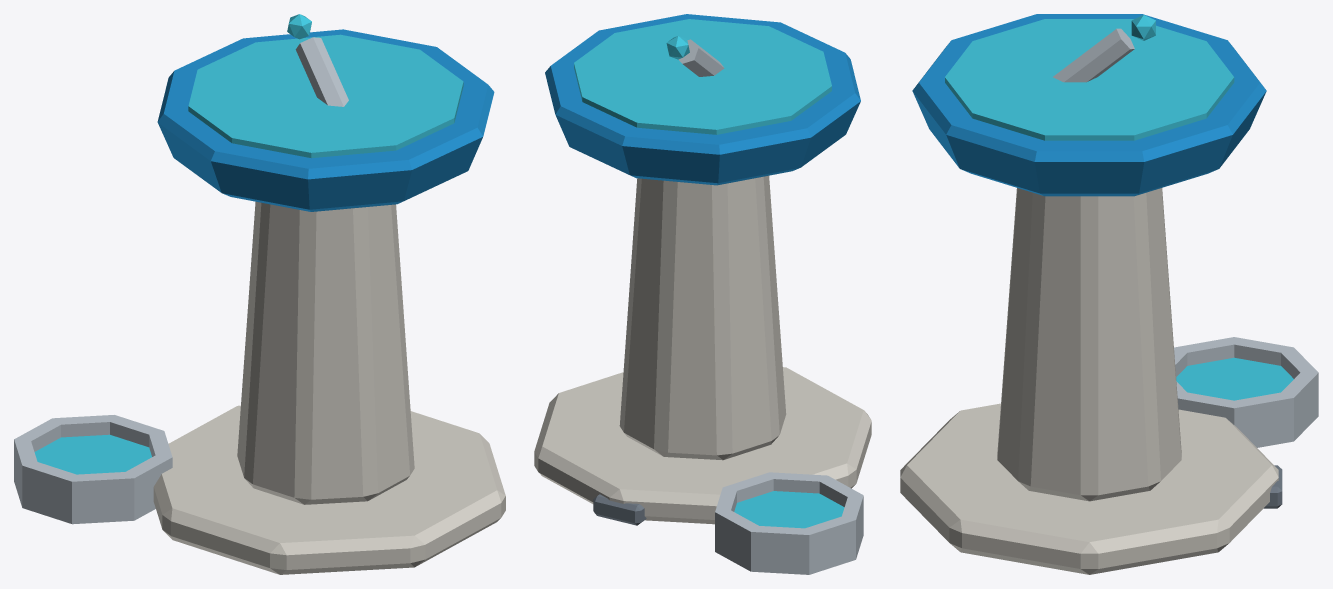
File: bebedouro.glb
3 renders of one model, left to right at view 1: azimuth 30°, elevation 25°; view 2: azimuth 150°, elevation 25°; view 3: azimuth 270°, elevation 25°, orthographic. The views are drawn at different scales.
Parts seen in each view (by area): view 1: corpo; view 2: corpo; view 3: corpo.
Boxes of the visible parts, box(x1,y1,x2,y2) form: corpo: box(14, 14, 505, 574); corpo: box(534, 14, 871, 574); corpo: box(900, 14, 1318, 574).
Bounding box in the file's own units: 0.3869 × 0.442 × 0.3469.
